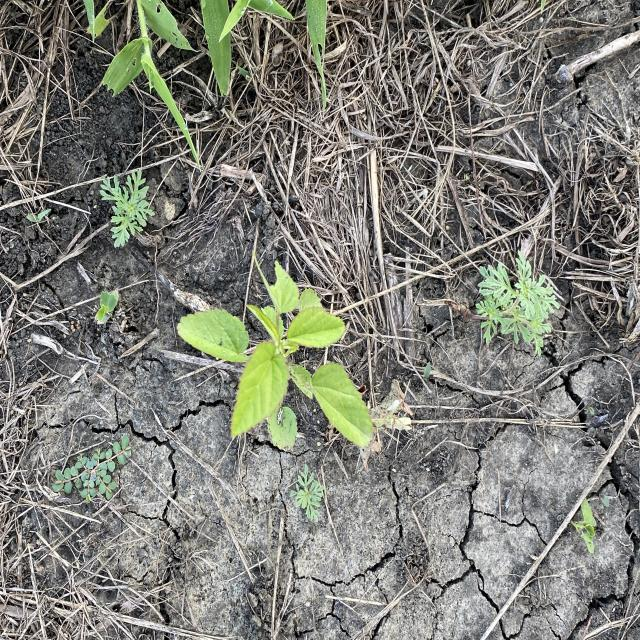PricklySida: (175, 258, 376, 451)
Ragweed: (474, 248, 561, 358), (97, 166, 155, 250), (288, 460, 327, 524)
SpottedSpurge: (52, 430, 134, 505)
